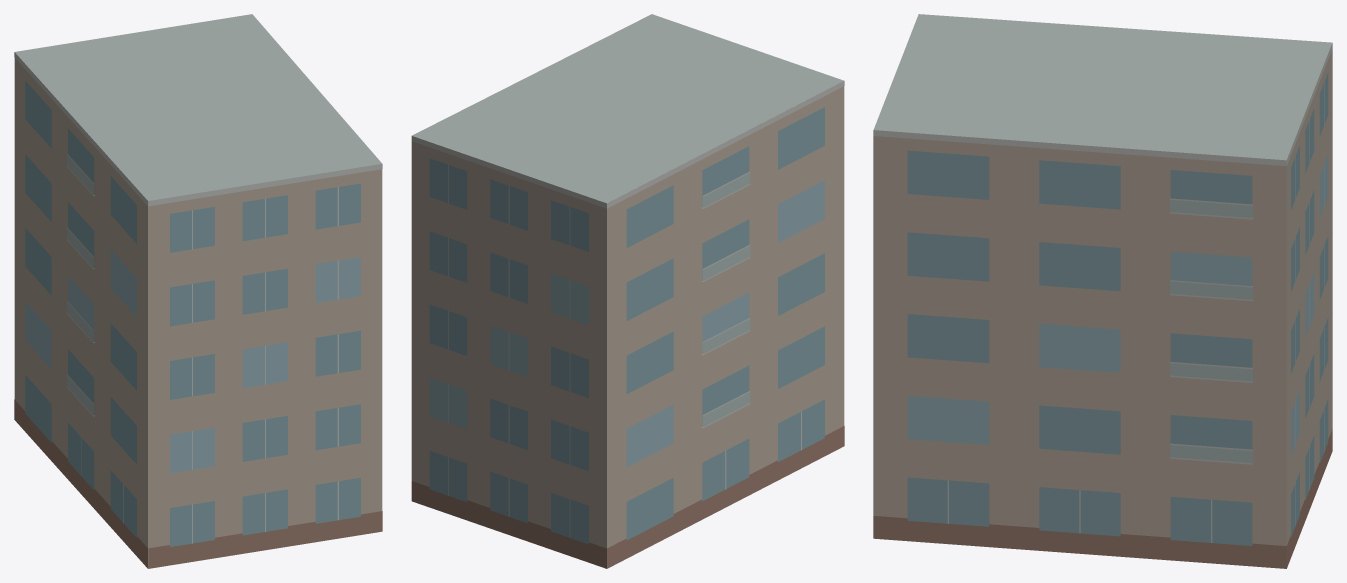
Rendered from survey-upis-32767752.glb.
3 views of the same model, side by side, from view 1: azimuth 30°, elevation 25°; view 2: azimuth 150°, elevation 25°; view 3: azimuth 270°, elevation 25° (orthographic). The views are drawn at different scales.
Visible parts, largest first — view 1: survey-upis-32767752.tmp; view 2: survey-upis-32767752.tmp; view 3: survey-upis-32767752.tmp.
Boxes of the visible parts, bbox=[...] form: survey-upis-32767752.tmp: bbox=[14, 14, 382, 568]; survey-upis-32767752.tmp: bbox=[411, 14, 844, 568]; survey-upis-32767752.tmp: bbox=[873, 14, 1332, 568].
Bounding box in the file's own units: 12.99 × 16.9 × 17.22.
